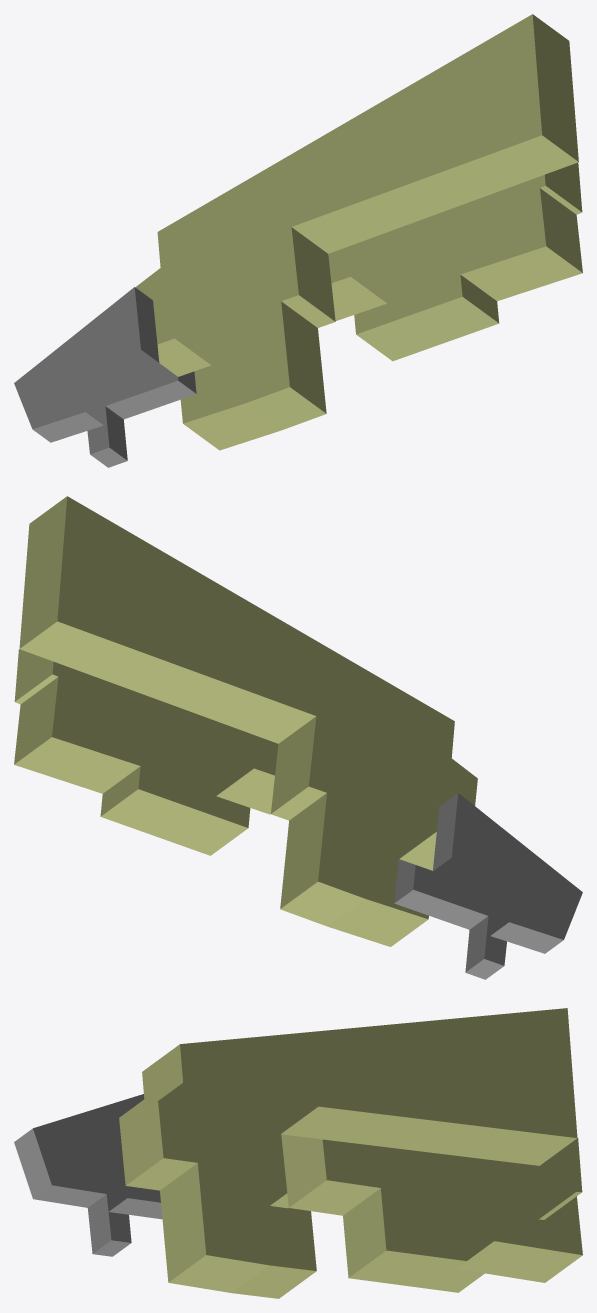
3 renders of one model, top to bottom at view 1: azimuth 30°, elevation 25°; view 2: azimuth 150°, elevation 25°; view 3: azimuth 330°, elevation 25°, orthographic. The views are drawn at different scales.
Visible parts, largest first — view 1: 0_0_2_0_1_0_1_0_1; view 2: 0_0_2_0_1_0_1_0_1; view 3: 0_0_2_0_1_0_1_0_1.
Part boxes in pixels (x1,y1,x2,y2): 0_0_2_0_1_0_1_0_1: (14,14,582,467); 0_0_2_0_1_0_1_0_1: (14,496,582,979); 0_0_2_0_1_0_1_0_1: (14,1008,582,1298).
Size of the model in its own units: 50.24 by 30.04 by 6.1.
